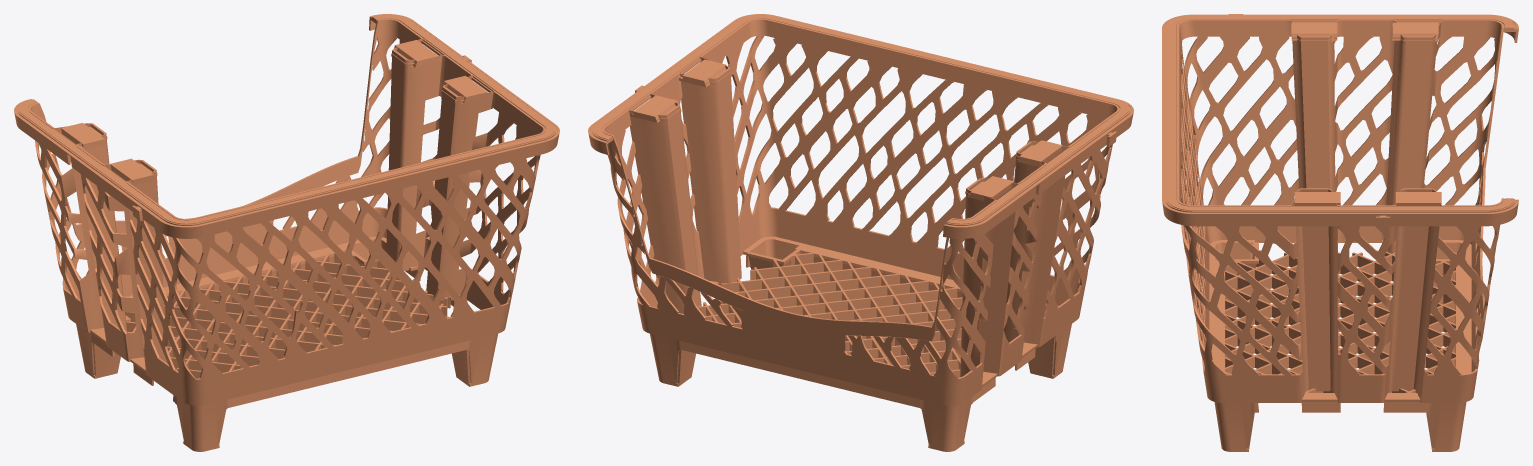
Rendered from modula-M.glb.
3 views of the same model, side by side, from view 1: azimuth 30°, elevation 25°; view 2: azimuth 150°, elevation 25°; view 3: azimuth 270°, elevation 25° (orthographic). The views are drawn at different scales.
Visible parts, largest first — view 1: MODULA M; view 2: MODULA M; view 3: MODULA M.
Boxes of the visible parts, x1=… form: MODULA M: x1=14, y1=14, x2=559, y2=451; MODULA M: x1=588, y1=14, x2=1133, y2=451; MODULA M: x1=1162, y1=14, x2=1518, y2=451.
Bounding box in the file's own units: 0.3981 × 0.241 × 0.2946.
